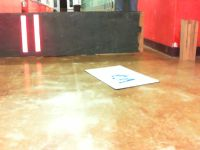switch: (20, 15, 28, 53), (33, 14, 41, 52)
